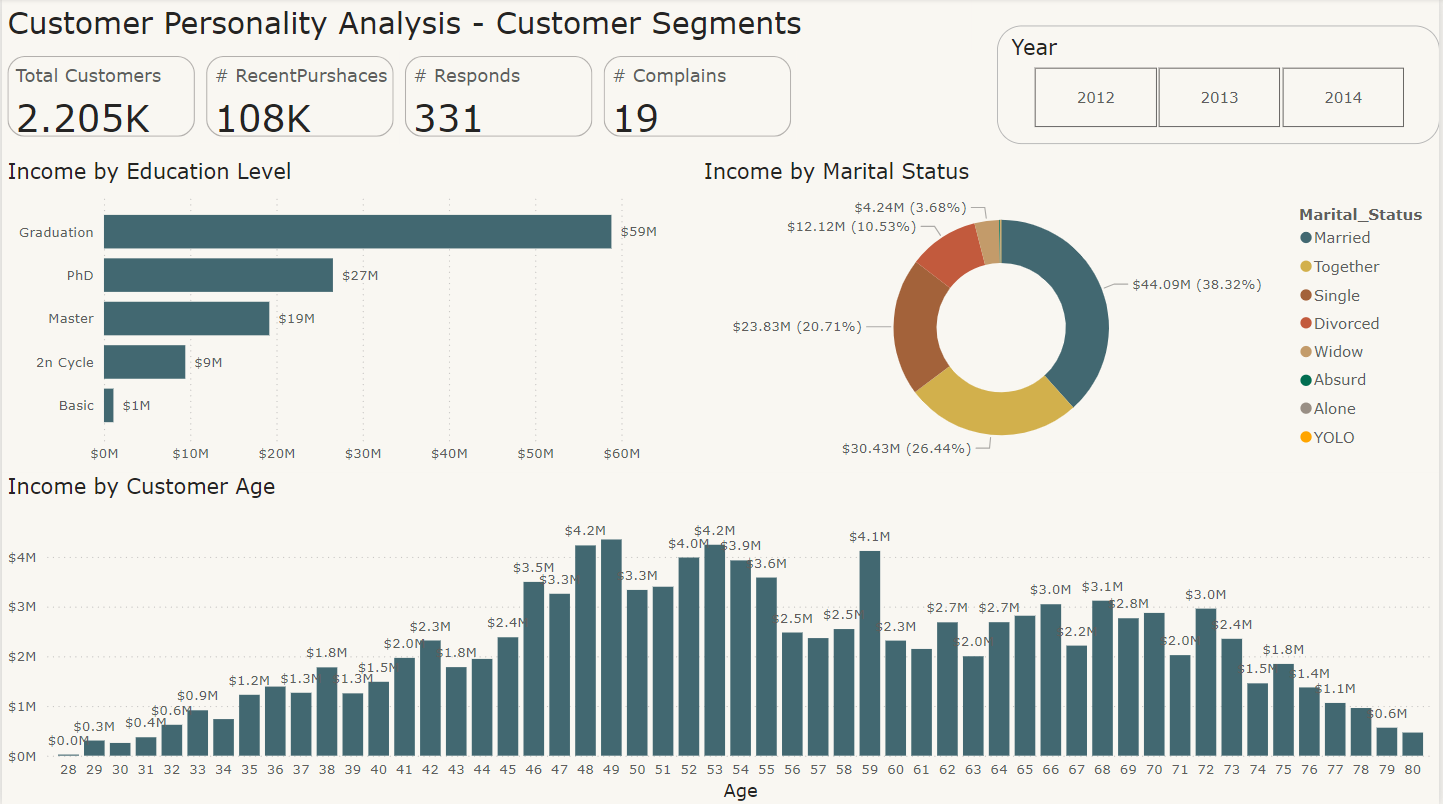

The dashboard page shown, as its layout file describes it:
{"tool":"powerbi","page":{"name":"Page 2","canvas":[1280,720],"ordinal":1},"visuals":[{"type":"cardVisual","fields":{"Data":["CountNonNull(Customer Personality.ID)"]},"box":[0,47.1,177.1,82.9],"z":0},{"type":"cardVisual","fields":{"Data":["Sum(Customer Personality.Recency)"]},"box":[177.1,47.1,177.1,82.9],"z":1000},{"type":"cardVisual","fields":{"Data":["Sum(Customer Personality.Complain)"]},"box":[531.4,47.1,177.1,82.9],"z":2000},{"type":"cardVisual","fields":{"Data":["Sum(Customer Personality.Response)"]},"box":[354.3,47.1,177.1,82.9],"z":3000},{"type":"slicer","title":"Year","fields":{"Values":["Customer Personality.Year"]},"box":[885.7,24.3,394.3,105.7],"z":4000},{"type":"clusteredBarChart","title":"Income by Education Level","fields":{"Category":["Customer Personality.Education"],"Y":["Sum(Customer Personality.Income)"]},"box":[0,142.9,620,280],"z":5000},{"type":"donutChart","title":"Income by Marital Status","fields":{"Category":["Customer Personality.Marital_Status"],"Y":["Sum(Customer Personality.Income)"]},"box":[620,142.9,660,280],"z":6000},{"type":"columnChart","title":"Income by Customer Age","fields":{"Category":["Customer Personality.Age"],"Y":["Sum(Customer Personality.Income)"]},"box":[0,422.9,1280,297.1],"z":7000},{"type":"textbox","box":[0,0,862.9,47.1],"z":8000}]}

Visuals, with their boxes in screenshot pixels (x1, y1, x2, y2), scaled from the page's 1280x720 canvas onto the 1443x804 screenshot:
cardVisual - CountNonNull(Customer Personality.ID): <box>0,53,200,145</box>
cardVisual - Sum(Customer Personality.Recency): <box>200,53,399,145</box>
cardVisual - Sum(Customer Personality.Complain): <box>599,53,799,145</box>
cardVisual - Sum(Customer Personality.Response): <box>399,53,599,145</box>
"Year" slicer: <box>998,27,1442,145</box>
"Income by Education Level" clusteredBarChart: <box>0,160,699,472</box>
"Income by Marital Status" donutChart: <box>699,160,1442,472</box>
"Income by Customer Age" columnChart: <box>0,472,1442,803</box>
textbox: <box>0,0,973,53</box>
